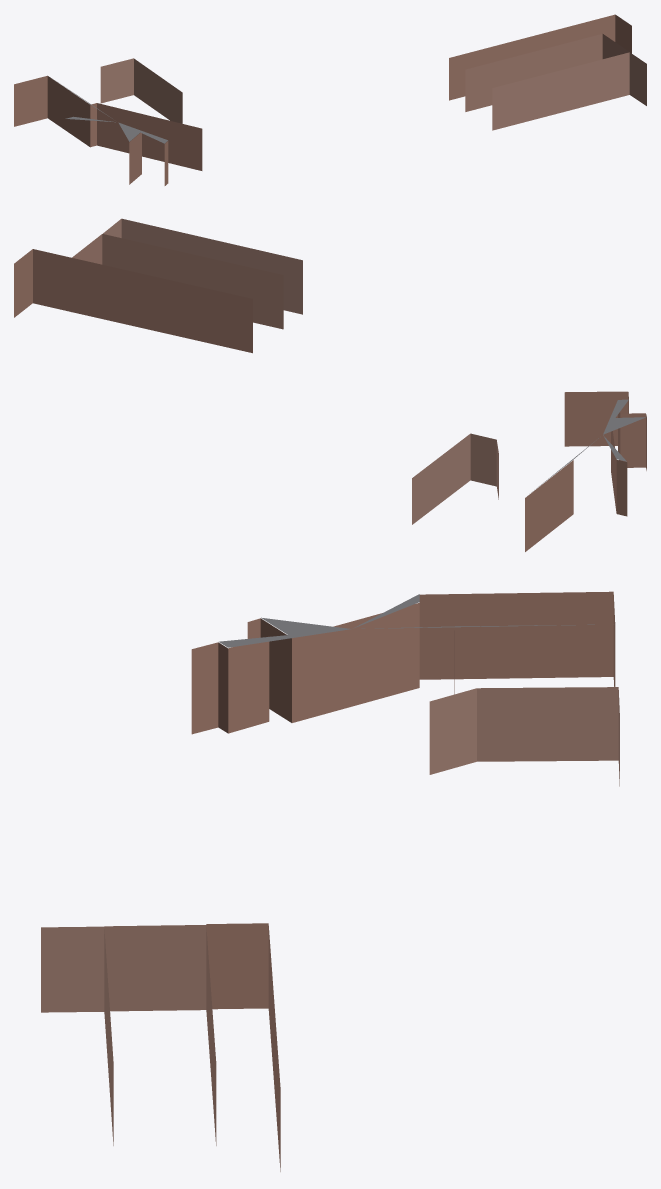
Rendered from c_1635_17828_buildings_residential.glb.
3 views of the same model, one above another, from view 1: azimuth 30°, elevation 25°; view 2: azimuth 150°, elevation 25°; view 3: azimuth 270°, elevation 25° (orthographic). The views are drawn at different scales.
Visible parts, largest first — view 1: geometry_0; view 2: geometry_0; view 3: geometry_0.
Part boxes in pixels (left/top/right/bottom): geometry_0: left=14, top=14, right=646, bottom=185; geometry_0: left=14, top=218, right=646, bottom=551; geometry_0: left=41, top=591, right=619, bottom=1171.
Bounding box in the file's own units: 140 × 12.2 × 67.77.
